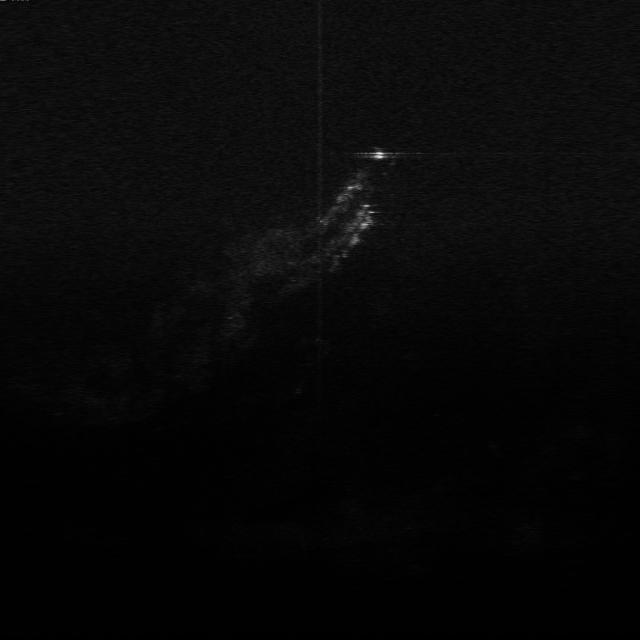rov: (369, 148, 392, 162)
